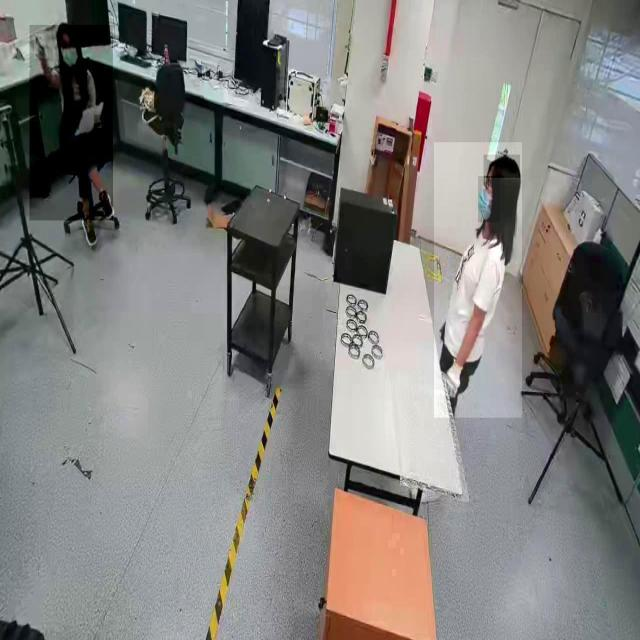face_mask: (478, 176, 500, 222), (56, 33, 80, 75)
hand_glove: (443, 356, 467, 402)
hand_noglove: (34, 34, 46, 60), (94, 115, 102, 134)
head_nohelmet: (484, 154, 520, 178), (55, 21, 75, 34)
person: (434, 142, 522, 419), (30, 25, 114, 221)
shoes: (96, 186, 117, 224), (79, 211, 99, 249)
